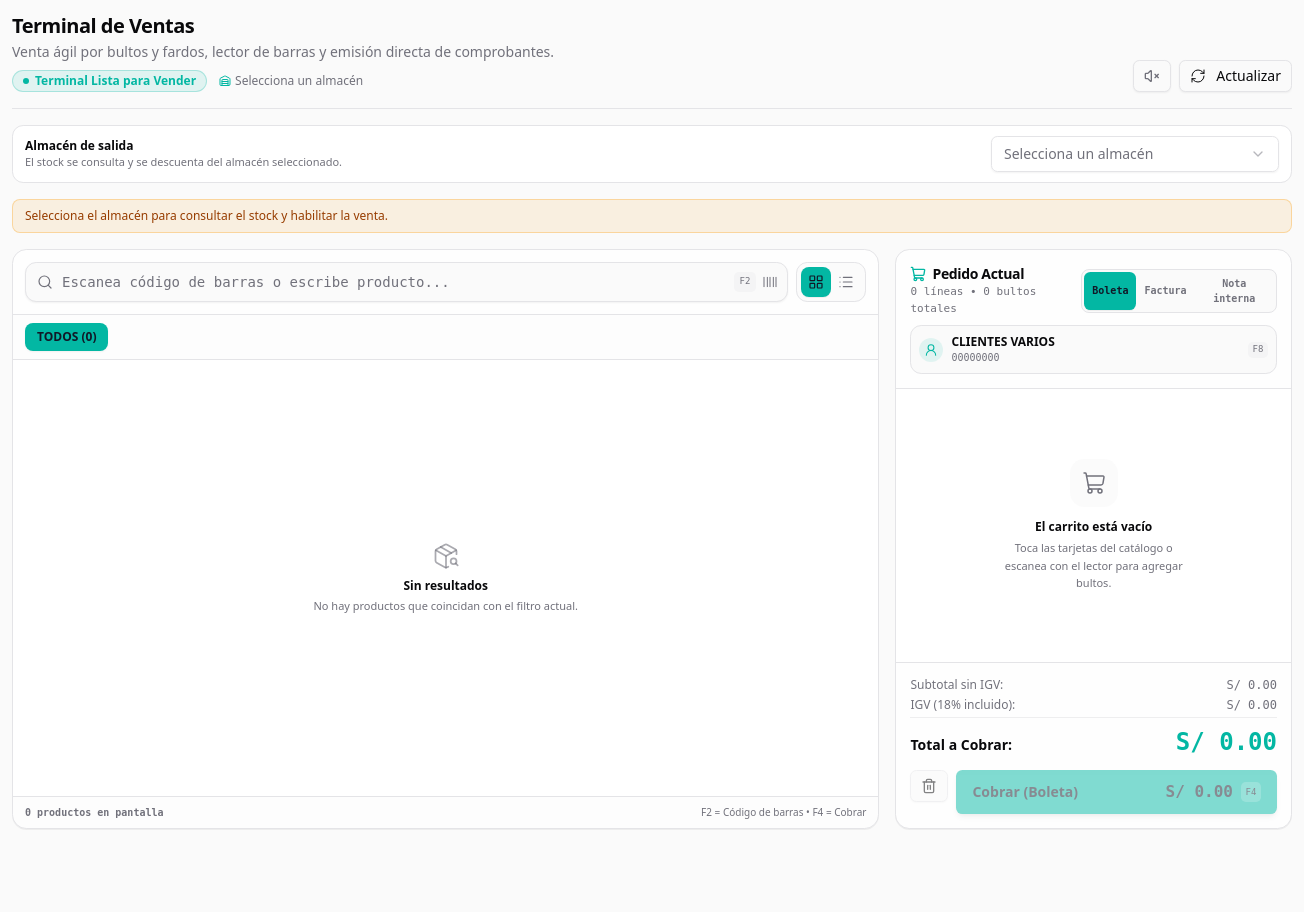
Test: POS warehouse selection › requires an explicit warehouse, then loads the catalog for that warehouse
Check: the text "Selecciona el almacén para consultar el stock y habilitar la venta." is shown, box [12, 199, 1292, 233]
Click the dropdown named "Almacén de salida".
click(1135, 154)  # box [991, 136, 1279, 172]
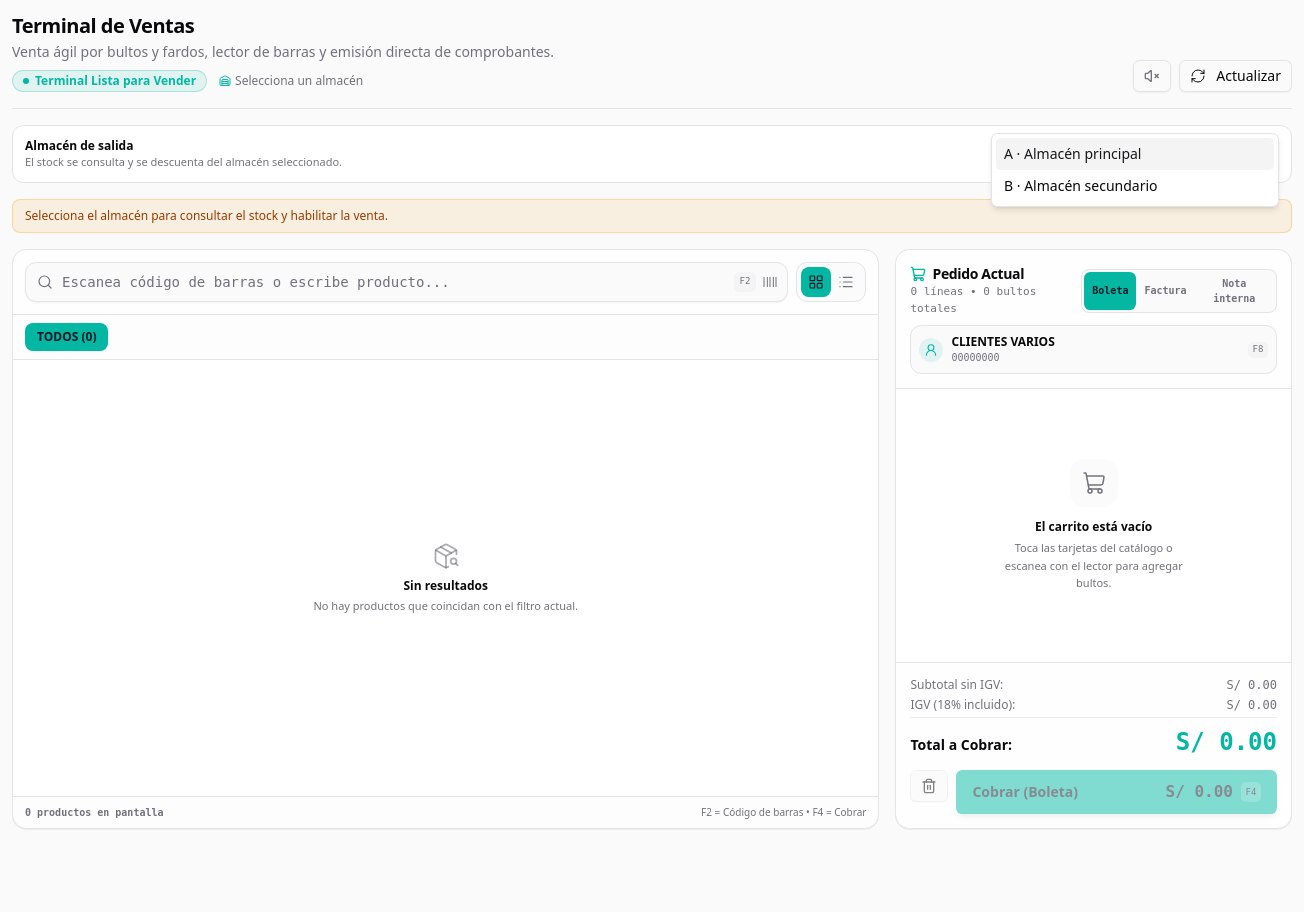
Click the option "A · Almacén principal".
click(1135, 154)  # box [996, 138, 1274, 170]
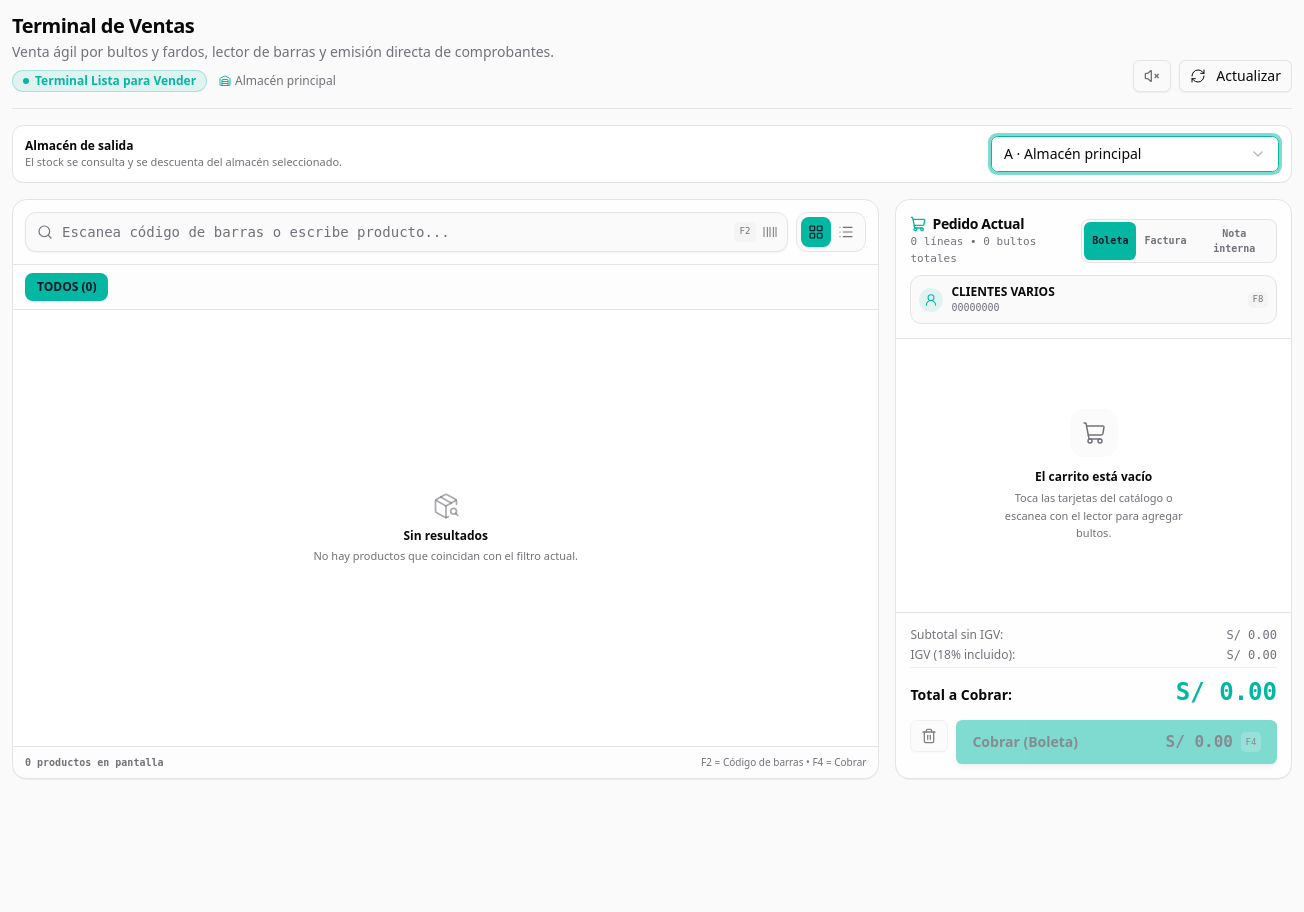
Check: the text "Selecciona el almacén para consultar el stock y habilitar la venta." is gone
